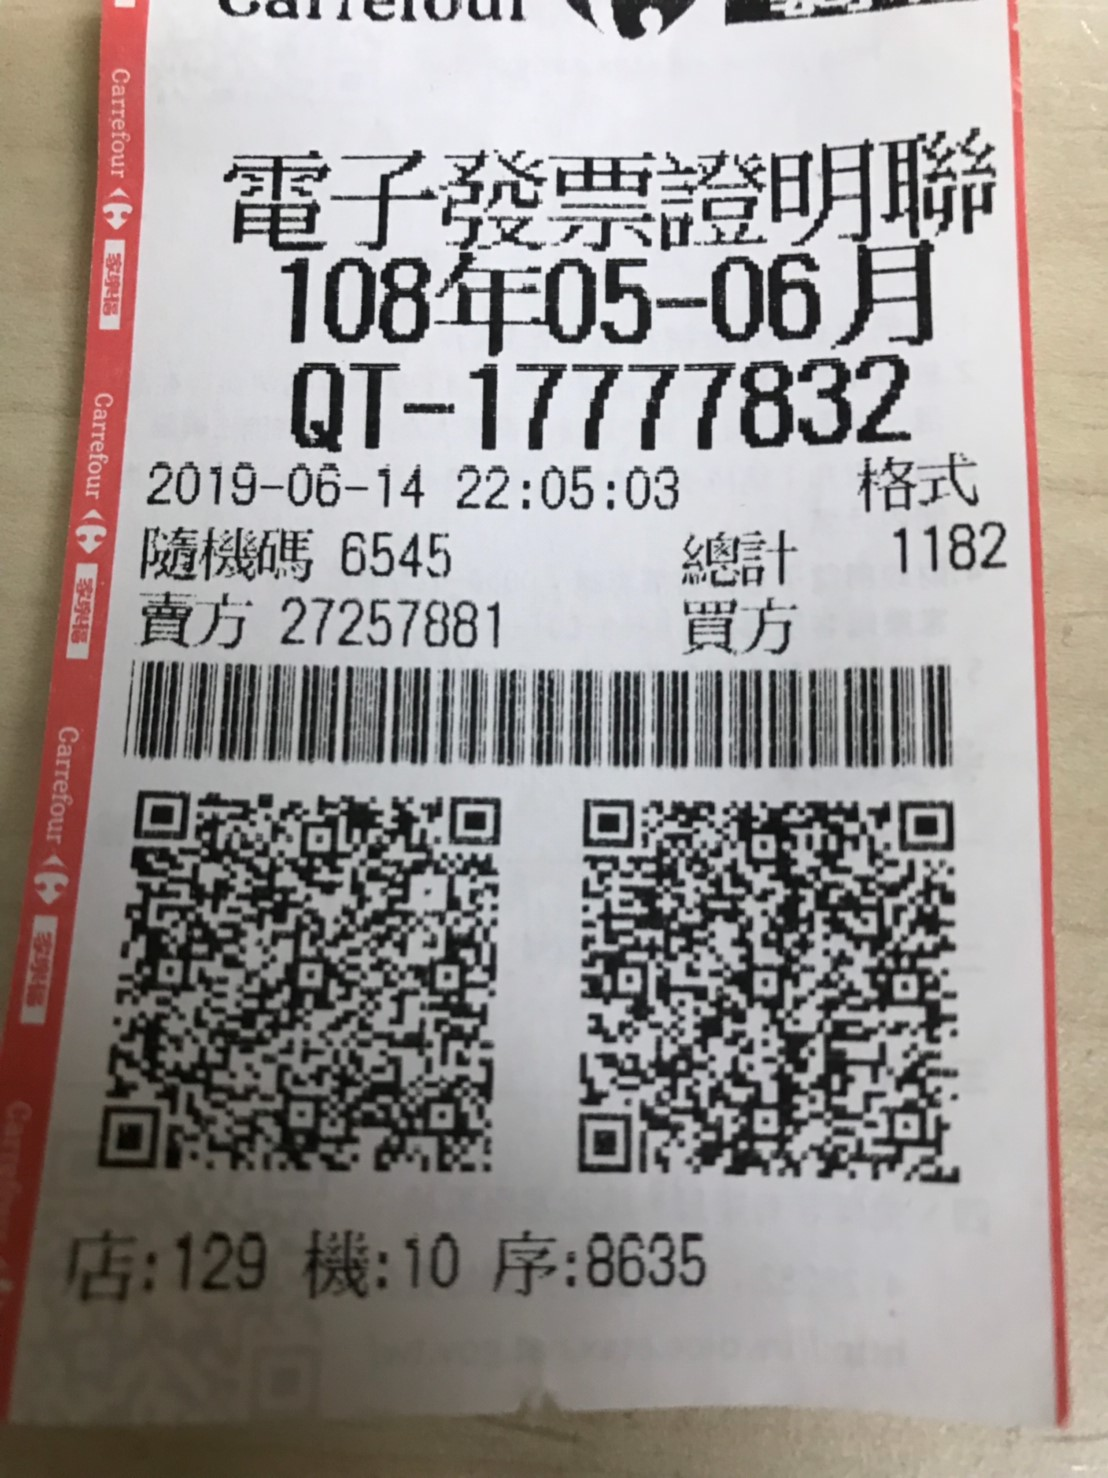Date_New: (272, 243, 940, 353)
Number_New: (463, 353, 917, 452)
